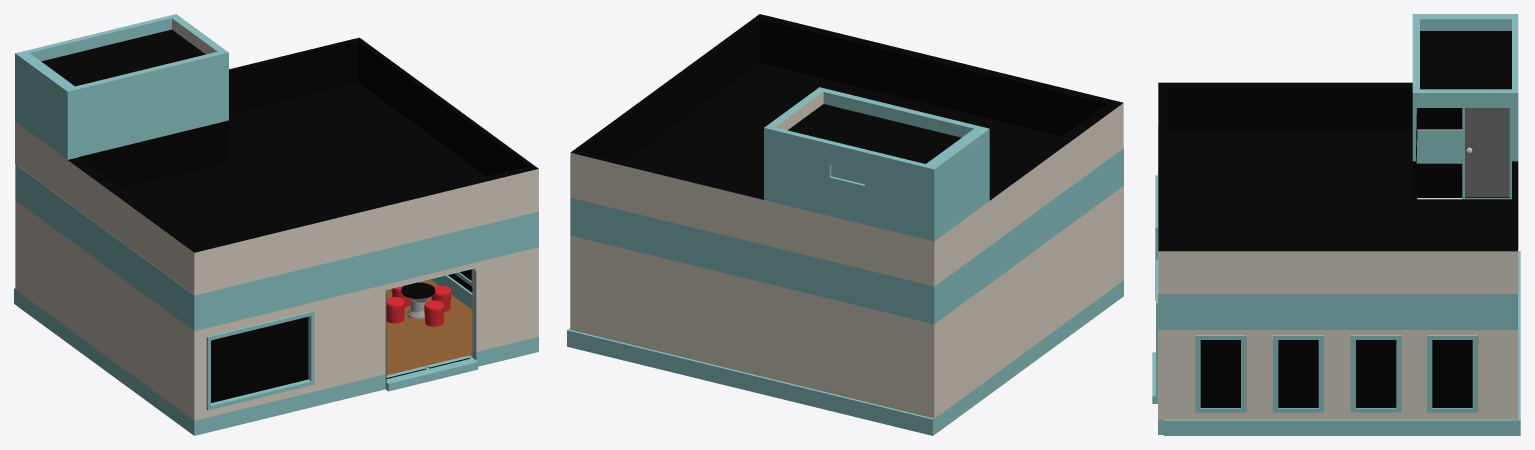
The model's file is building.glb.
The picture shows the model from 3 angles, left to right: view 1: azimuth 30°, elevation 25°; view 2: azimuth 150°, elevation 25°; view 3: azimuth 270°, elevation 25°; orthographic projection. The views are drawn at different scales.
Parts seen in each view (by area): view 1: 2F.003, 2F, Wall.002, Wall.001, Plane, Cylinder.050, Wall.000; view 2: Wall.001, 2F, 2F.003; view 3: 2F.003, Wall.000, 2F, Wall.001, Wall.002, Wall.003.
Part boxes in pixels (x1,y1,x2,y2): 2F.003: (68, 37, 538, 252); 2F: (15, 14, 538, 295); Wall.002: (191, 211, 538, 435); Wall.001: (14, 164, 191, 433); Plane: (385, 279, 472, 375); Cylinder.050: (386, 282, 451, 326); Wall.000: (431, 269, 472, 309); Wall.001: (567, 150, 1120, 435); 2F: (570, 87, 1123, 286); 2F.003: (571, 14, 1123, 200); 2F.003: (1158, 82, 1518, 251); Wall.000: (1163, 294, 1511, 435); 2F: (1158, 14, 1518, 293); Wall.001: (1416, 130, 1520, 435); Wall.002: (1152, 125, 1164, 434); Wall.003: (1416, 163, 1462, 199).
Size of what is drawn, in the model's own units: 10.37 by 7.18 by 9.51.
